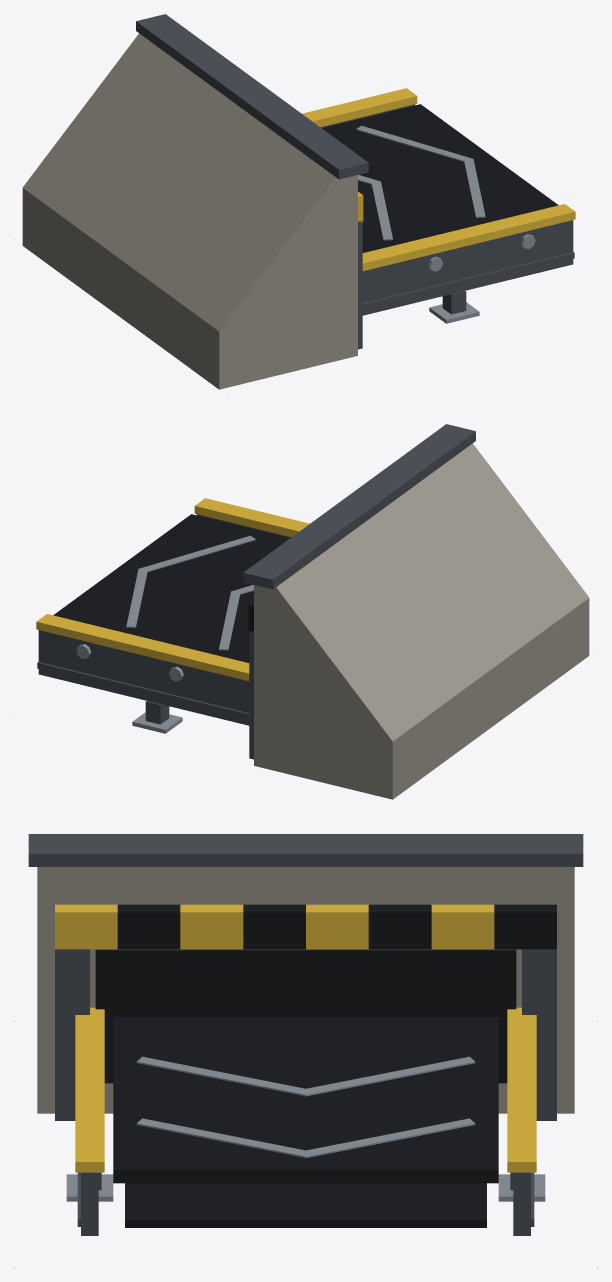
Rendered from convoyeur_tunnel_sortie_t1.glb.
3 renders of one model, top to bottom at view 1: azimuth 30°, elevation 25°; view 2: azimuth 150°, elevation 25°; view 3: azimuth 270°, elevation 25°, orthographic. The views are drawn at different scales.
Visible parts, largest first — view 1: bouche.004, pieces_acier_sombre.016, pieces_noir.008, pieces_jaune.008, bande_acier.014, pieces_acier.016; view 2: bouche.004, pieces_acier_sombre.016, pieces_noir.008, pieces_jaune.008, bande_acier.014, pieces_acier.016; view 3: pieces_noir.008, pieces_acier_sombre.016, bouche.004, pieces_jaune.008, bande_acier.014, pieces_acier.016.
Boxes of the visible parts, <box> form: bouche.004: <box>22,33,357,389</box>; pieces_acier_sombre.016: <box>136,14,574,349</box>; pieces_noir.008: <box>322,104,558,252</box>; pieces_jaune.008: <box>302,88,575,271</box>; bande_acier.014: <box>356,125,485,240</box>; pieces_acier.016: <box>428,234,535,323</box>; bouche.004: <box>254,443,589,799</box>; pieces_acier_sombre.016: <box>37,424,475,759</box>; pieces_noir.008: <box>53,514,289,662</box>; pieces_jaune.008: <box>36,498,309,681</box>; bande_acier.014: <box>126,535,255,650</box>; pieces_acier.016: <box>76,644,183,733</box>; pieces_noir.008: <box>95,904,556,1227</box>; pieces_acier_sombre.016: <box>28,834,583,1235</box>; bouche.004: <box>37,867,574,1113</box>; pieces_jaune.008: <box>55,904,536,1172</box>; bande_acier.014: <box>136,1056,475,1157</box>; pieces_acier.016: <box>66,1174,545,1201</box>.
Size of the model in its own units: 1 by 0.5 by 1.
